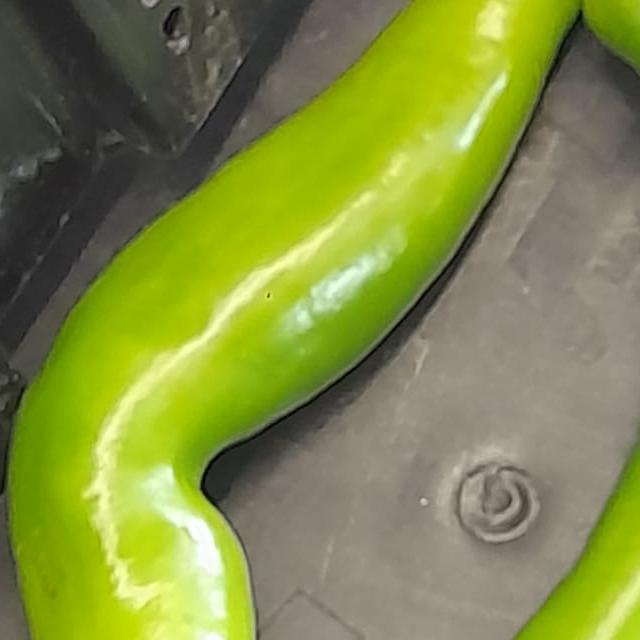chili_pepper: (0, 0, 630, 640), (143, 0, 640, 640)
